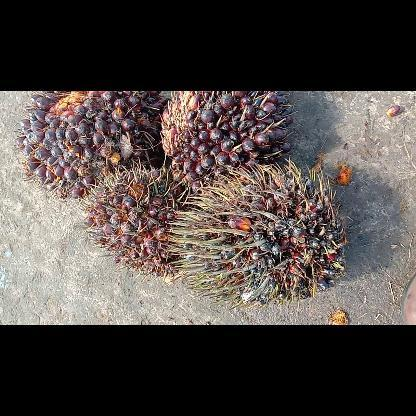Kurang masak: (161, 91, 290, 191), (84, 166, 182, 276)
TBS abnormal: (163, 164, 345, 308)
TBS masak: (16, 90, 160, 196)
